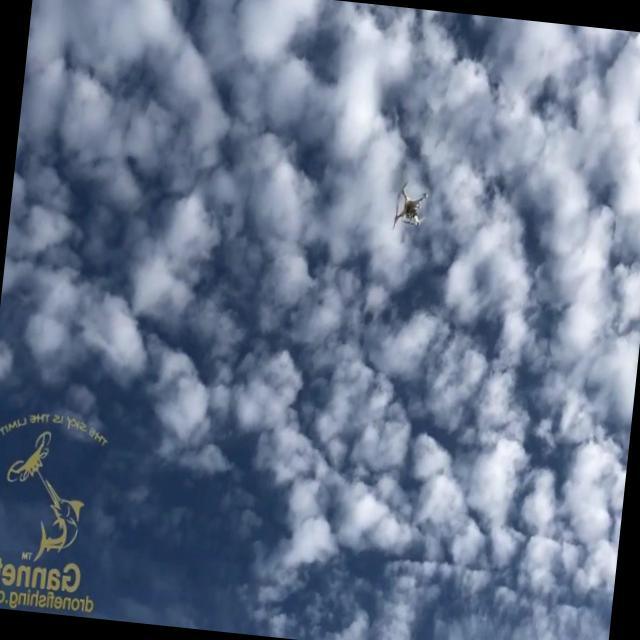drone: (387, 178, 434, 234)
